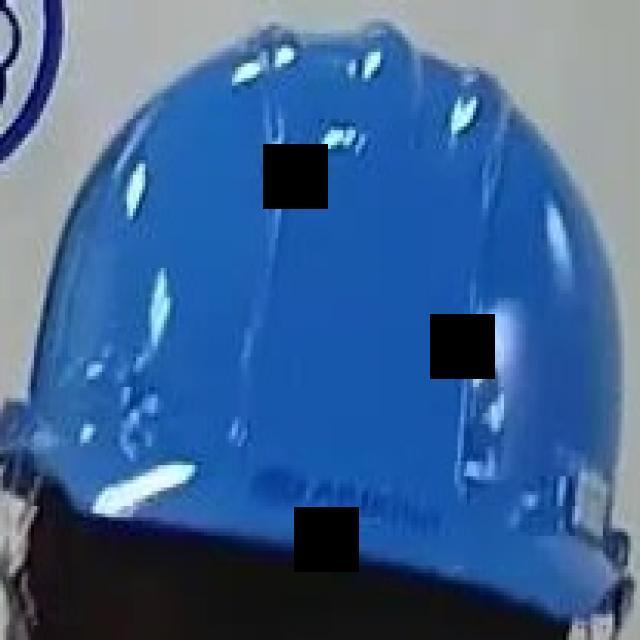blue helmet: (29, 23, 625, 602)
